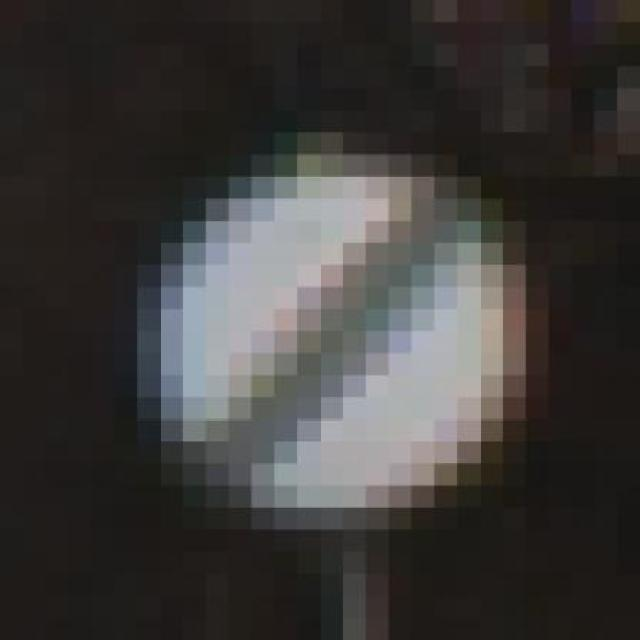End of all speed and passing limits: (114, 110, 549, 530)
